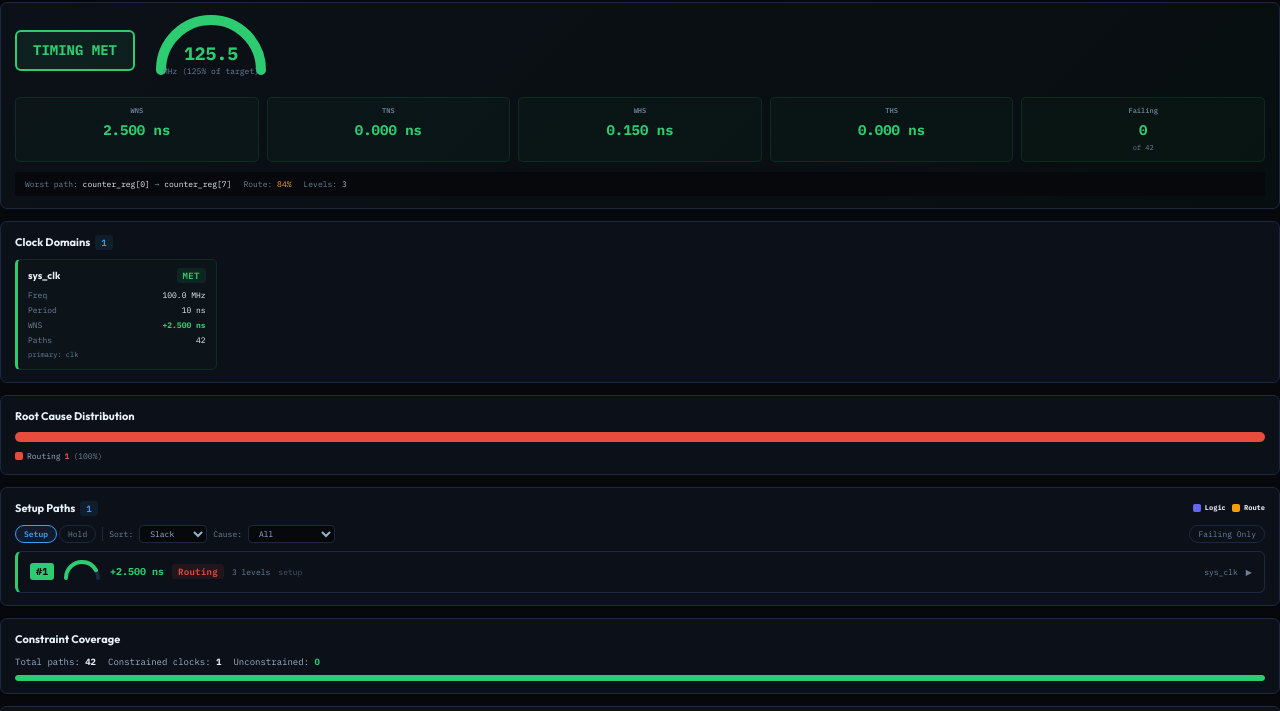
Test: TimingAnalyzer › expands path card to show FROM/TO on click
Click the path card header to expand (click the rank badge #1)
What coordinates should you click on to do the following:
click the text "#1"
I would click on:
 (42, 572)
Its box is [30,563,54,580].
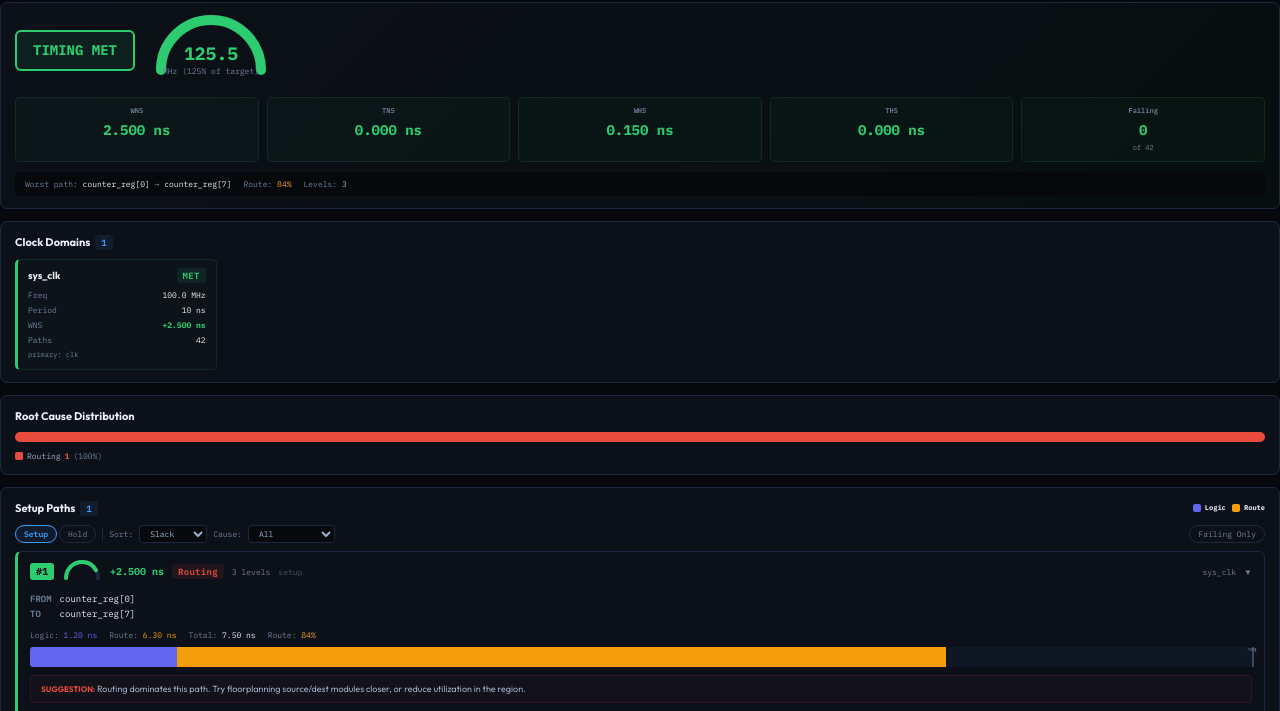
Expected: the text "counter_reg[0]" next to "Worst path:" is shown, [83,179,150,189]
Expected: the text "FROM" is shown, [30,592,52,605]
Expected: the text "TO" is shown, [30,608,41,619]
